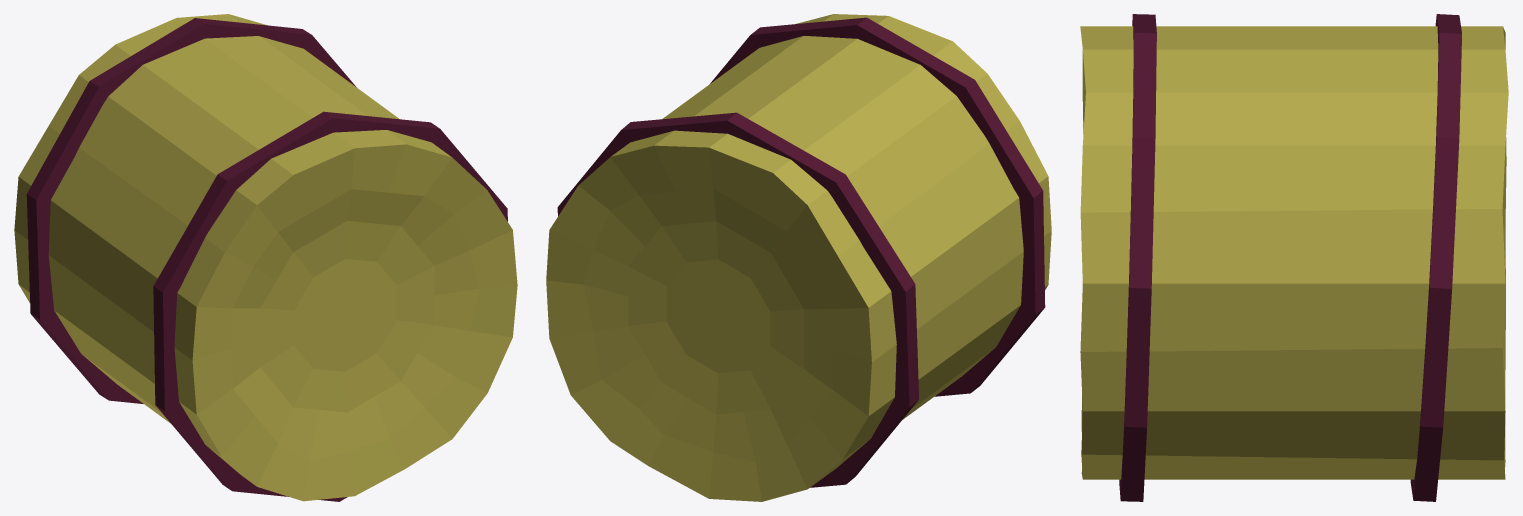
The model's file is Hay_Bale.fbx.
The picture shows the model from 3 angles, left to right: view 1: azimuth 30°, elevation 25°; view 2: azimuth 150°, elevation 25°; view 3: azimuth 270°, elevation 25°; orthographic projection. The views are drawn at different scales.
Visible parts, largest first — view 1: Hay Bale, String; view 2: Hay Bale, String; view 3: Hay Bale, String.
Boxes of the visible parts, <box> form: Hay Bale: <box>14,14,517,501</box>; String: <box>26,18,507,501</box>; Hay Bale: <box>546,14,1051,501</box>; String: <box>557,17,1045,487</box>; Hay Bale: <box>1080,26,1508,479</box>; String: <box>1119,14,1461,501</box>.
Size of the model in its own units: 207 by 218 by 188.
